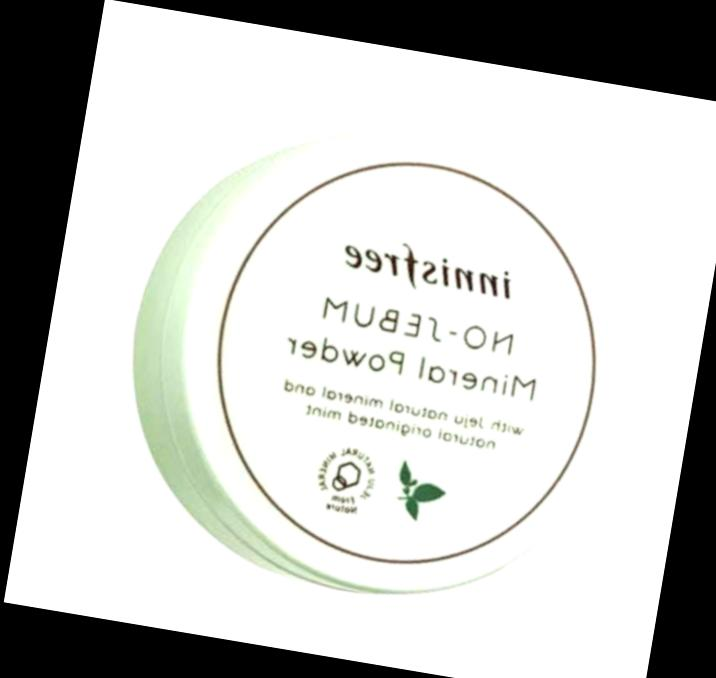cosmetic: (109, 97, 649, 621)
